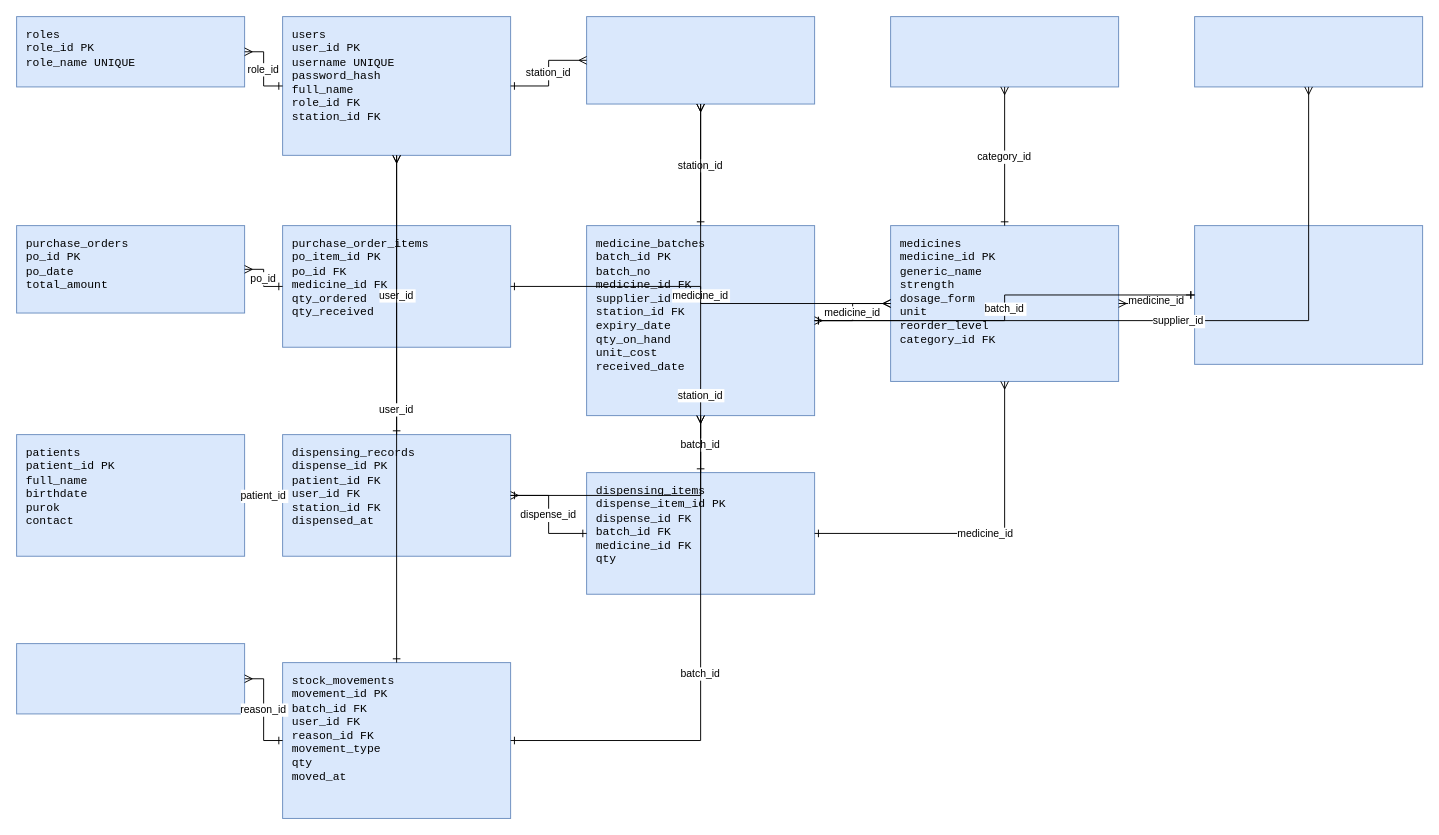
The diagram is 1439 pixels wide and 835 high, and some of its shapes have lost their labels. The centre of each missing label's shape, as x and y in pixels:
adjustment_reasons reason_id PK reason_text UNIQUE: (x=130, y=678)
alerts alert_id PK alert_type medicine_id FK batch_id FK created_at resolved_at: (x=1308, y=294)
health_stations station_id PK station_name address: (x=700, y=60)
medicine_categories category_id PK category_name UNIQUE: (x=1004, y=51)
suppliers supplier_id PK supplier_name contact: (x=1308, y=51)
